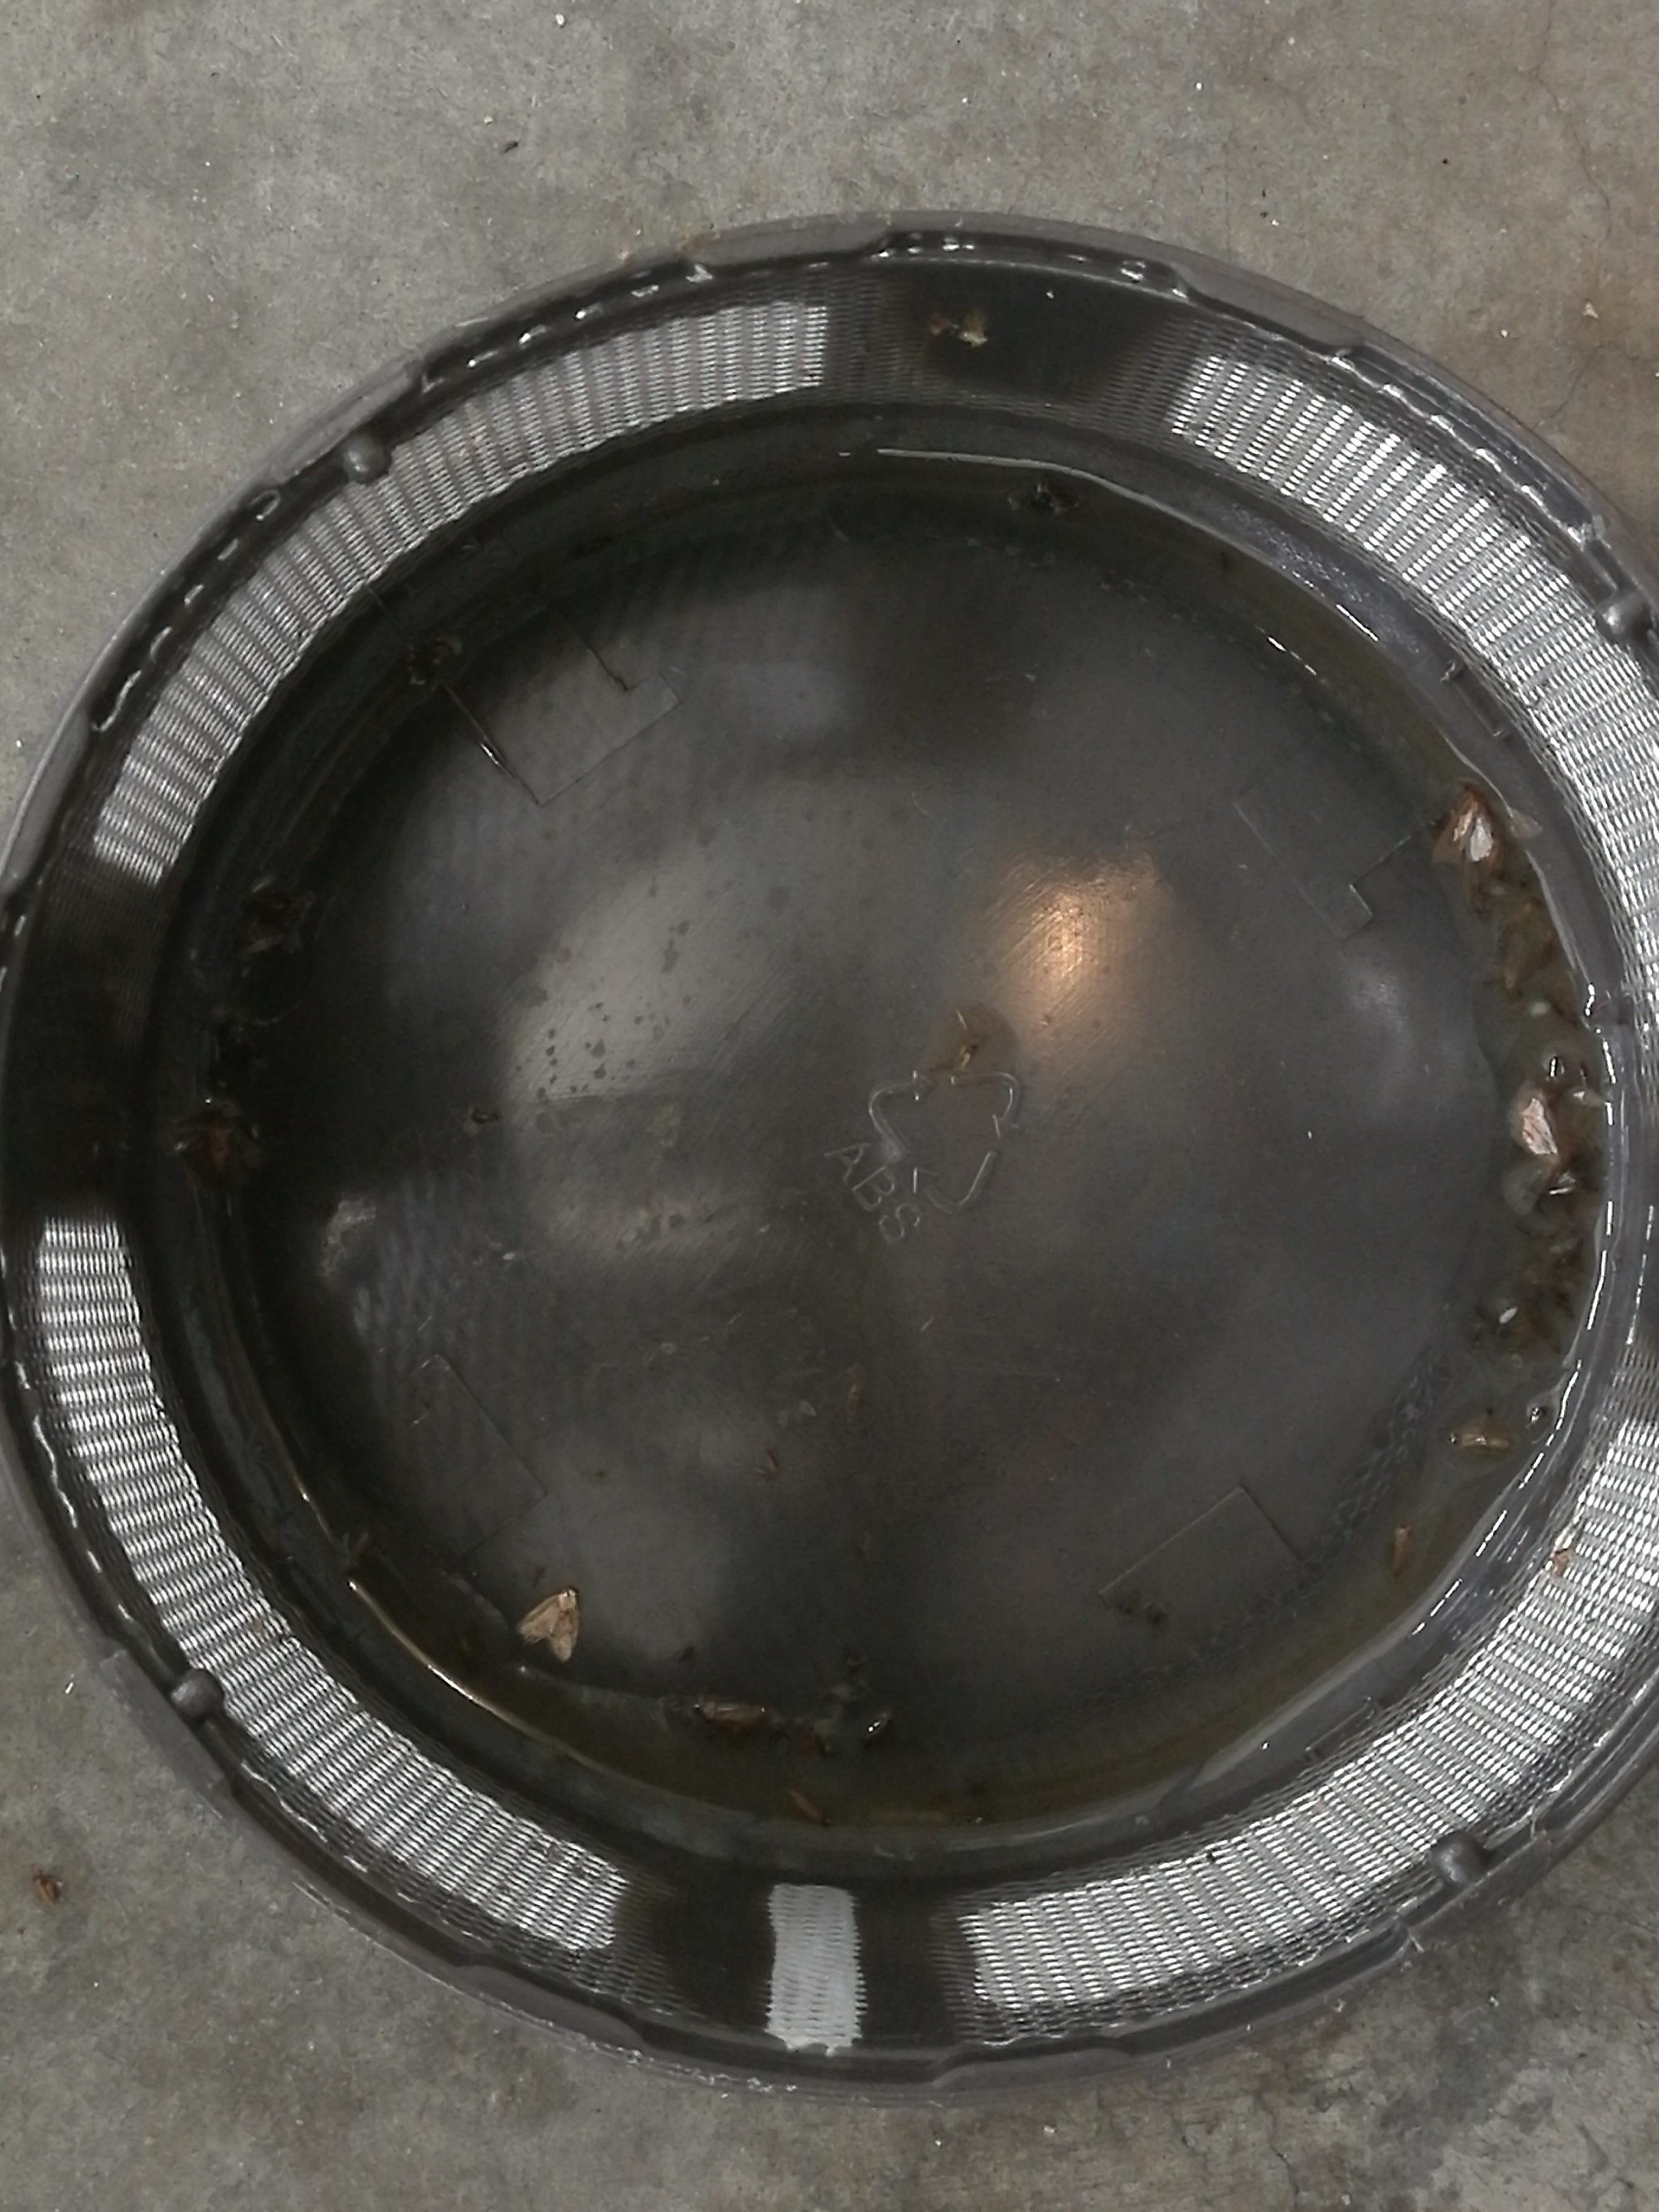moth: (1431, 786, 1542, 878), (1500, 1080, 1568, 1216), (516, 1590, 579, 1660)
